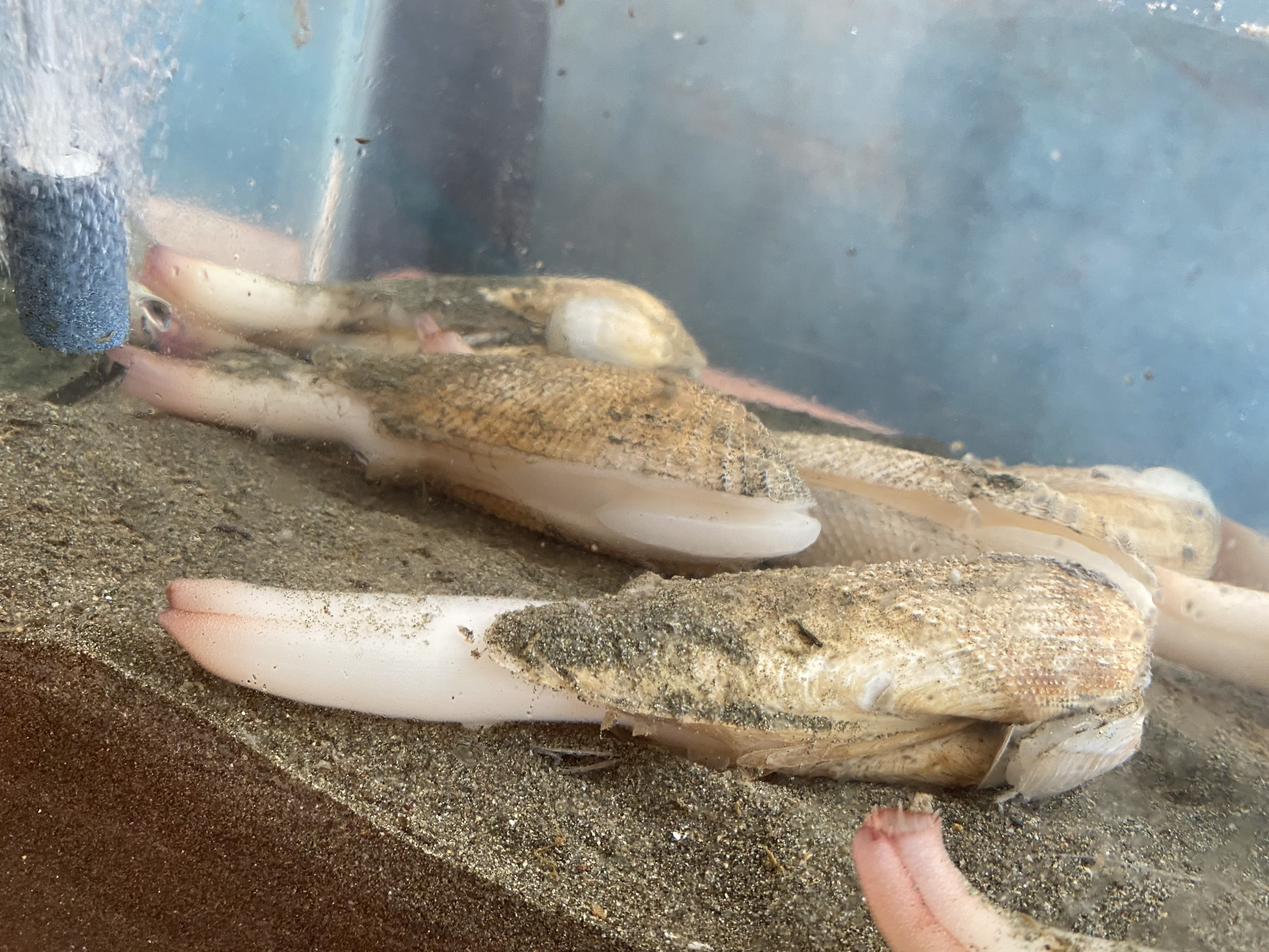Healthy: (160, 553, 1150, 796), (114, 345, 819, 571), (142, 245, 704, 376), (853, 808, 1139, 952), (1154, 567, 1269, 690), (531, 404, 582, 414)
